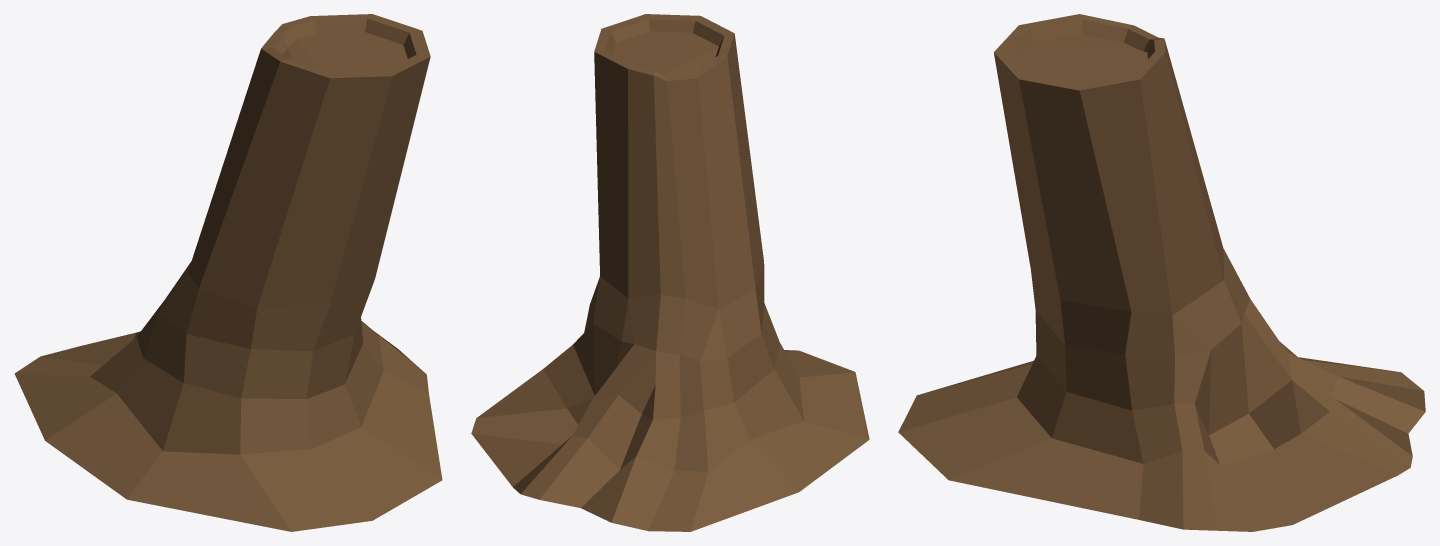
Rendered from wild_pz_log_05.glb.
3 views of the same model, side by side, from view 1: azimuth 30°, elevation 25°; view 2: azimuth 150°, elevation 25°; view 3: azimuth 270°, elevation 25° (orthographic). The views are drawn at different scales.
Visible parts, largest first — view 1: pg_log_05; view 2: pg_log_05; view 3: pg_log_05.
Part boxes in pixels (x1,y1,x2,y2): pg_log_05: [14, 14, 442, 531]; pg_log_05: [471, 14, 869, 531]; pg_log_05: [898, 14, 1425, 531].
Bounding box in the file's own units: 1.29 × 1.37 × 1.57.
